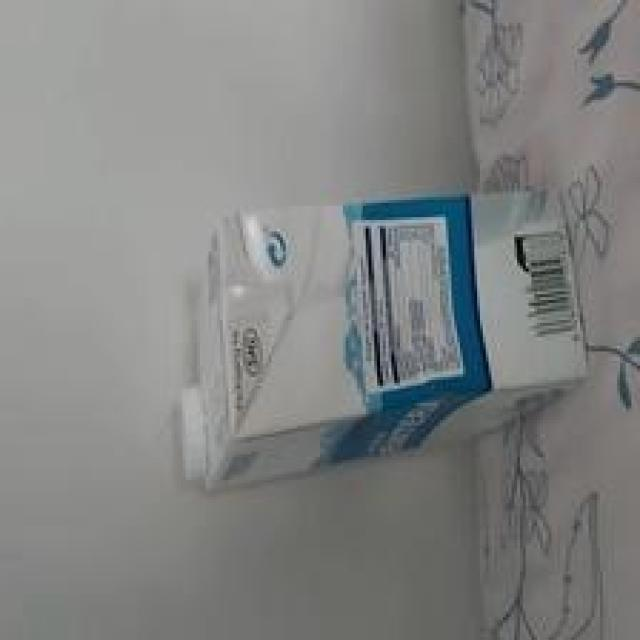PaperCardboard: (176, 199, 591, 384)
